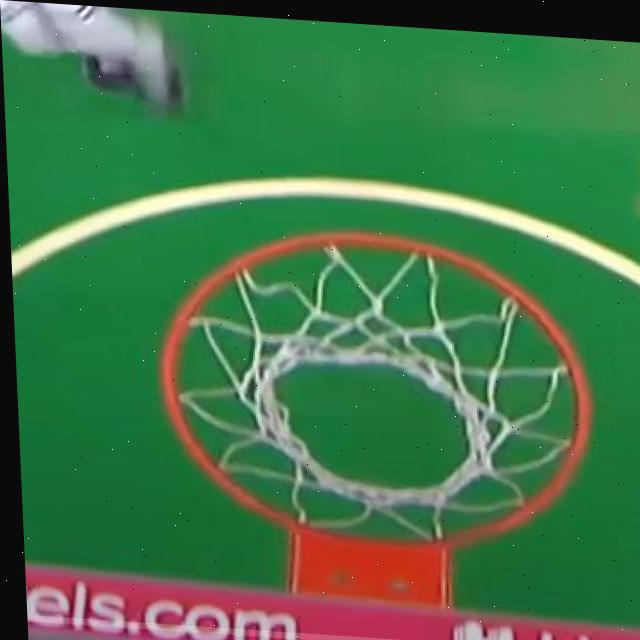hoop: (167, 246, 602, 605)
